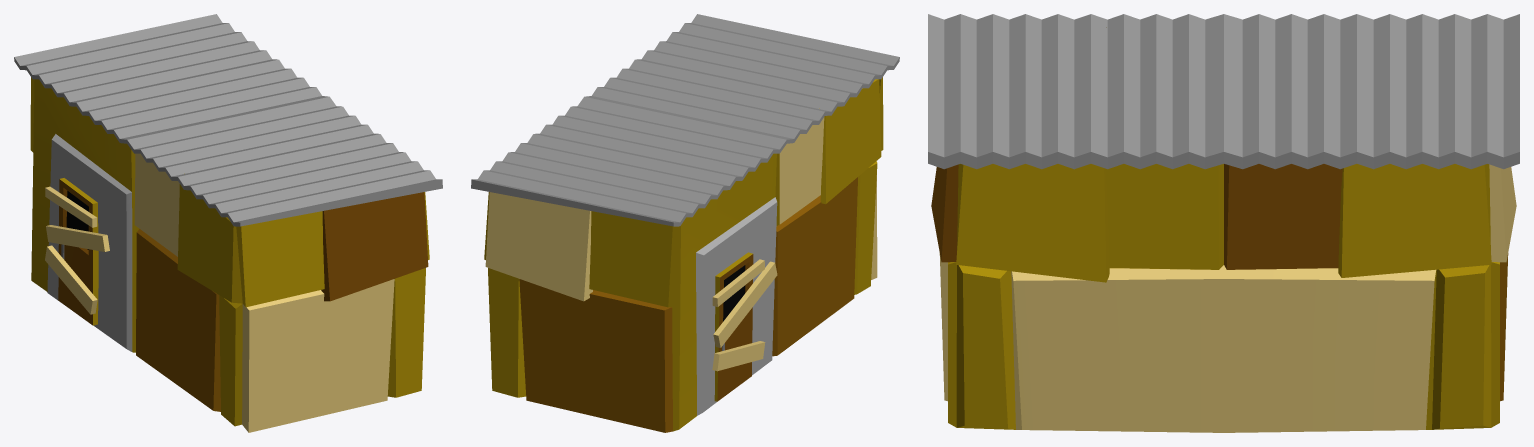
The model's file is oldHouse_1.fbx.
3 renders of one model, left to right at view 1: azimuth 30°, elevation 25°; view 2: azimuth 150°, elevation 25°; view 3: azimuth 270°, elevation 25°, orthographic. The views are drawn at different scales.
Visible parts, largest first — view 1: oldHouse_1; view 2: oldHouse_1; view 3: oldHouse_1.
Boxes of the visible parts, left/top/right/bottom form: oldHouse_1: left=14, top=14, right=442, bottom=432; oldHouse_1: left=471, top=14, right=899, bottom=432; oldHouse_1: left=928, top=14, right=1519, bottom=432.
Size of the model in its own units: 578 by 577 by 1053.
